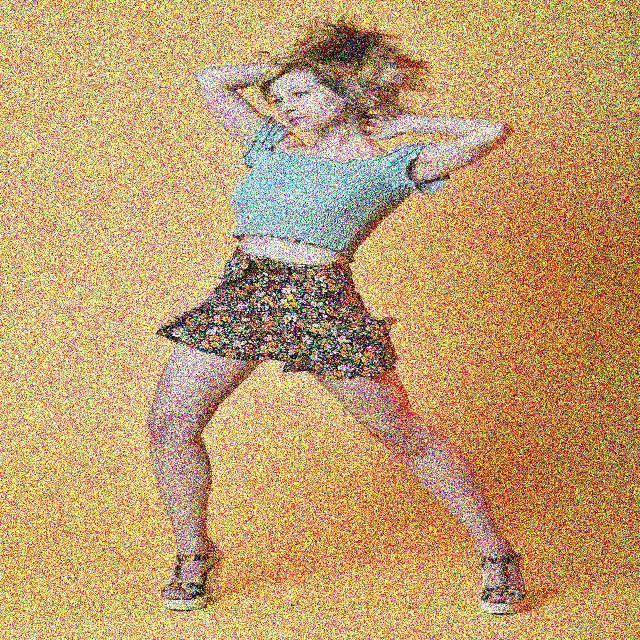Crop_Top: (228, 164, 388, 265)
Miniskirt: (139, 247, 505, 537)
